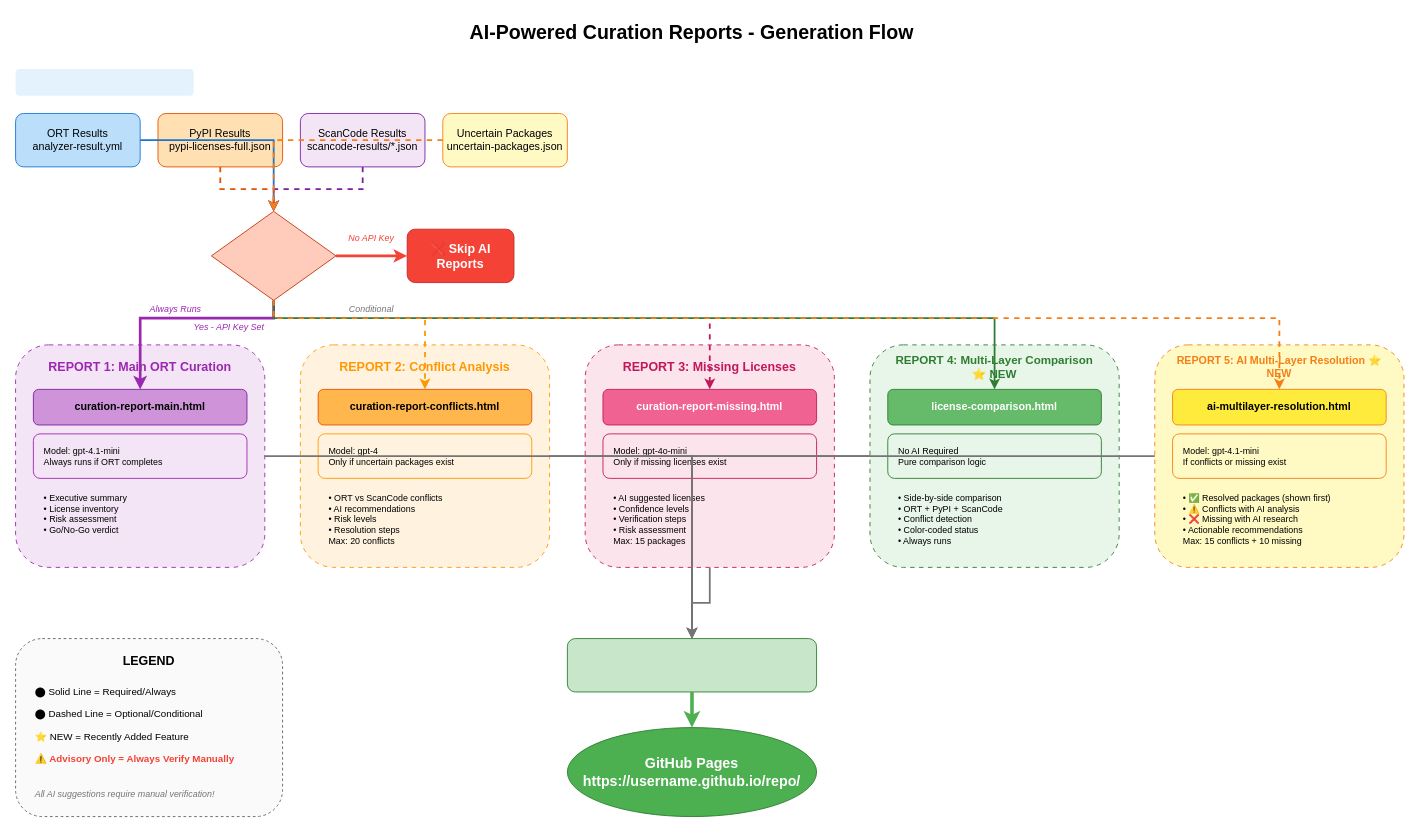
The diagram is 1420 pixels wide and 832 high, and some of its shapes have lost their labels. Each missing label, with the centre of its shape:
"Azure OpenAI Configured?" goes at point (273, 255).
"INPUT DATA SOURCES" goes at point (104, 82).
"Landing Page index.html" goes at point (691, 665).
